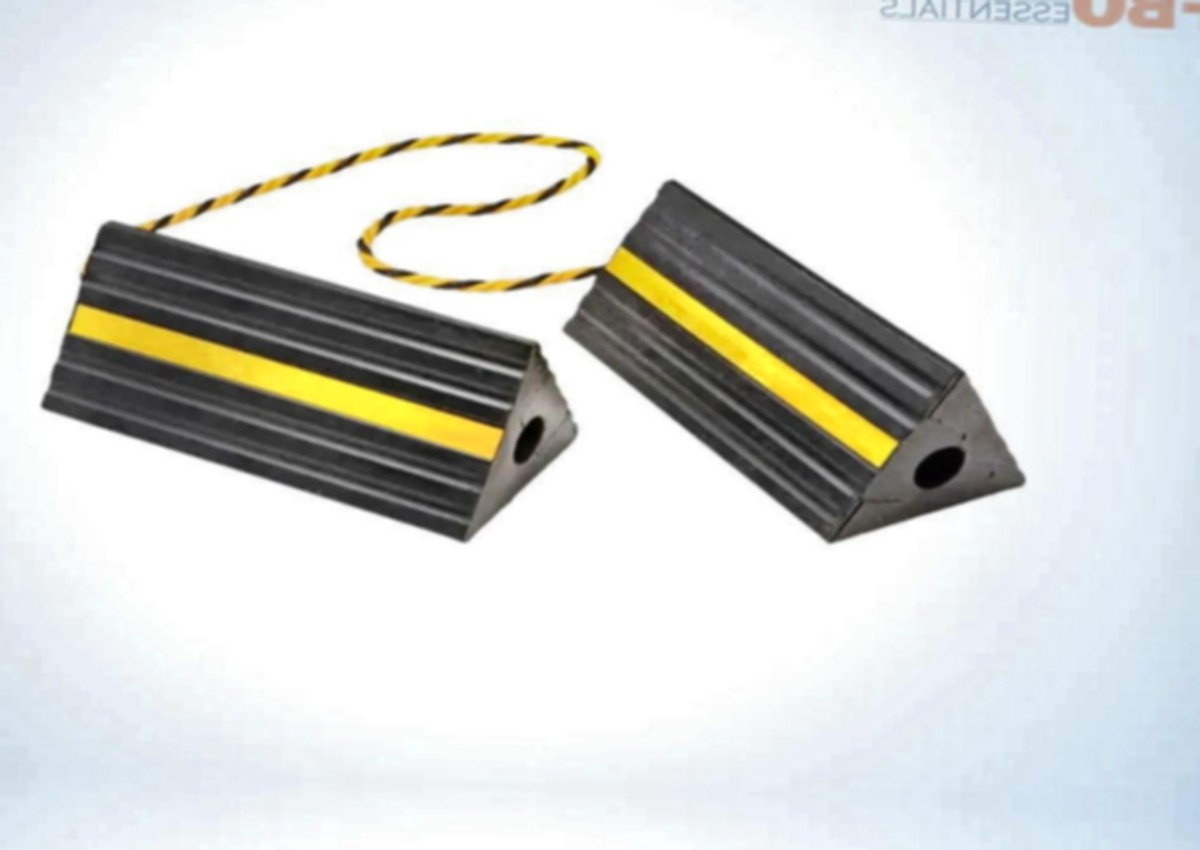chock: (553, 165, 1045, 556), (35, 209, 581, 552)
